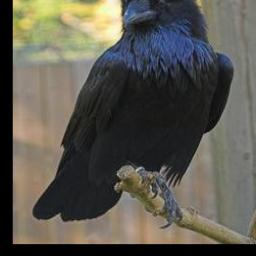Crow: (32, 0, 234, 229)
